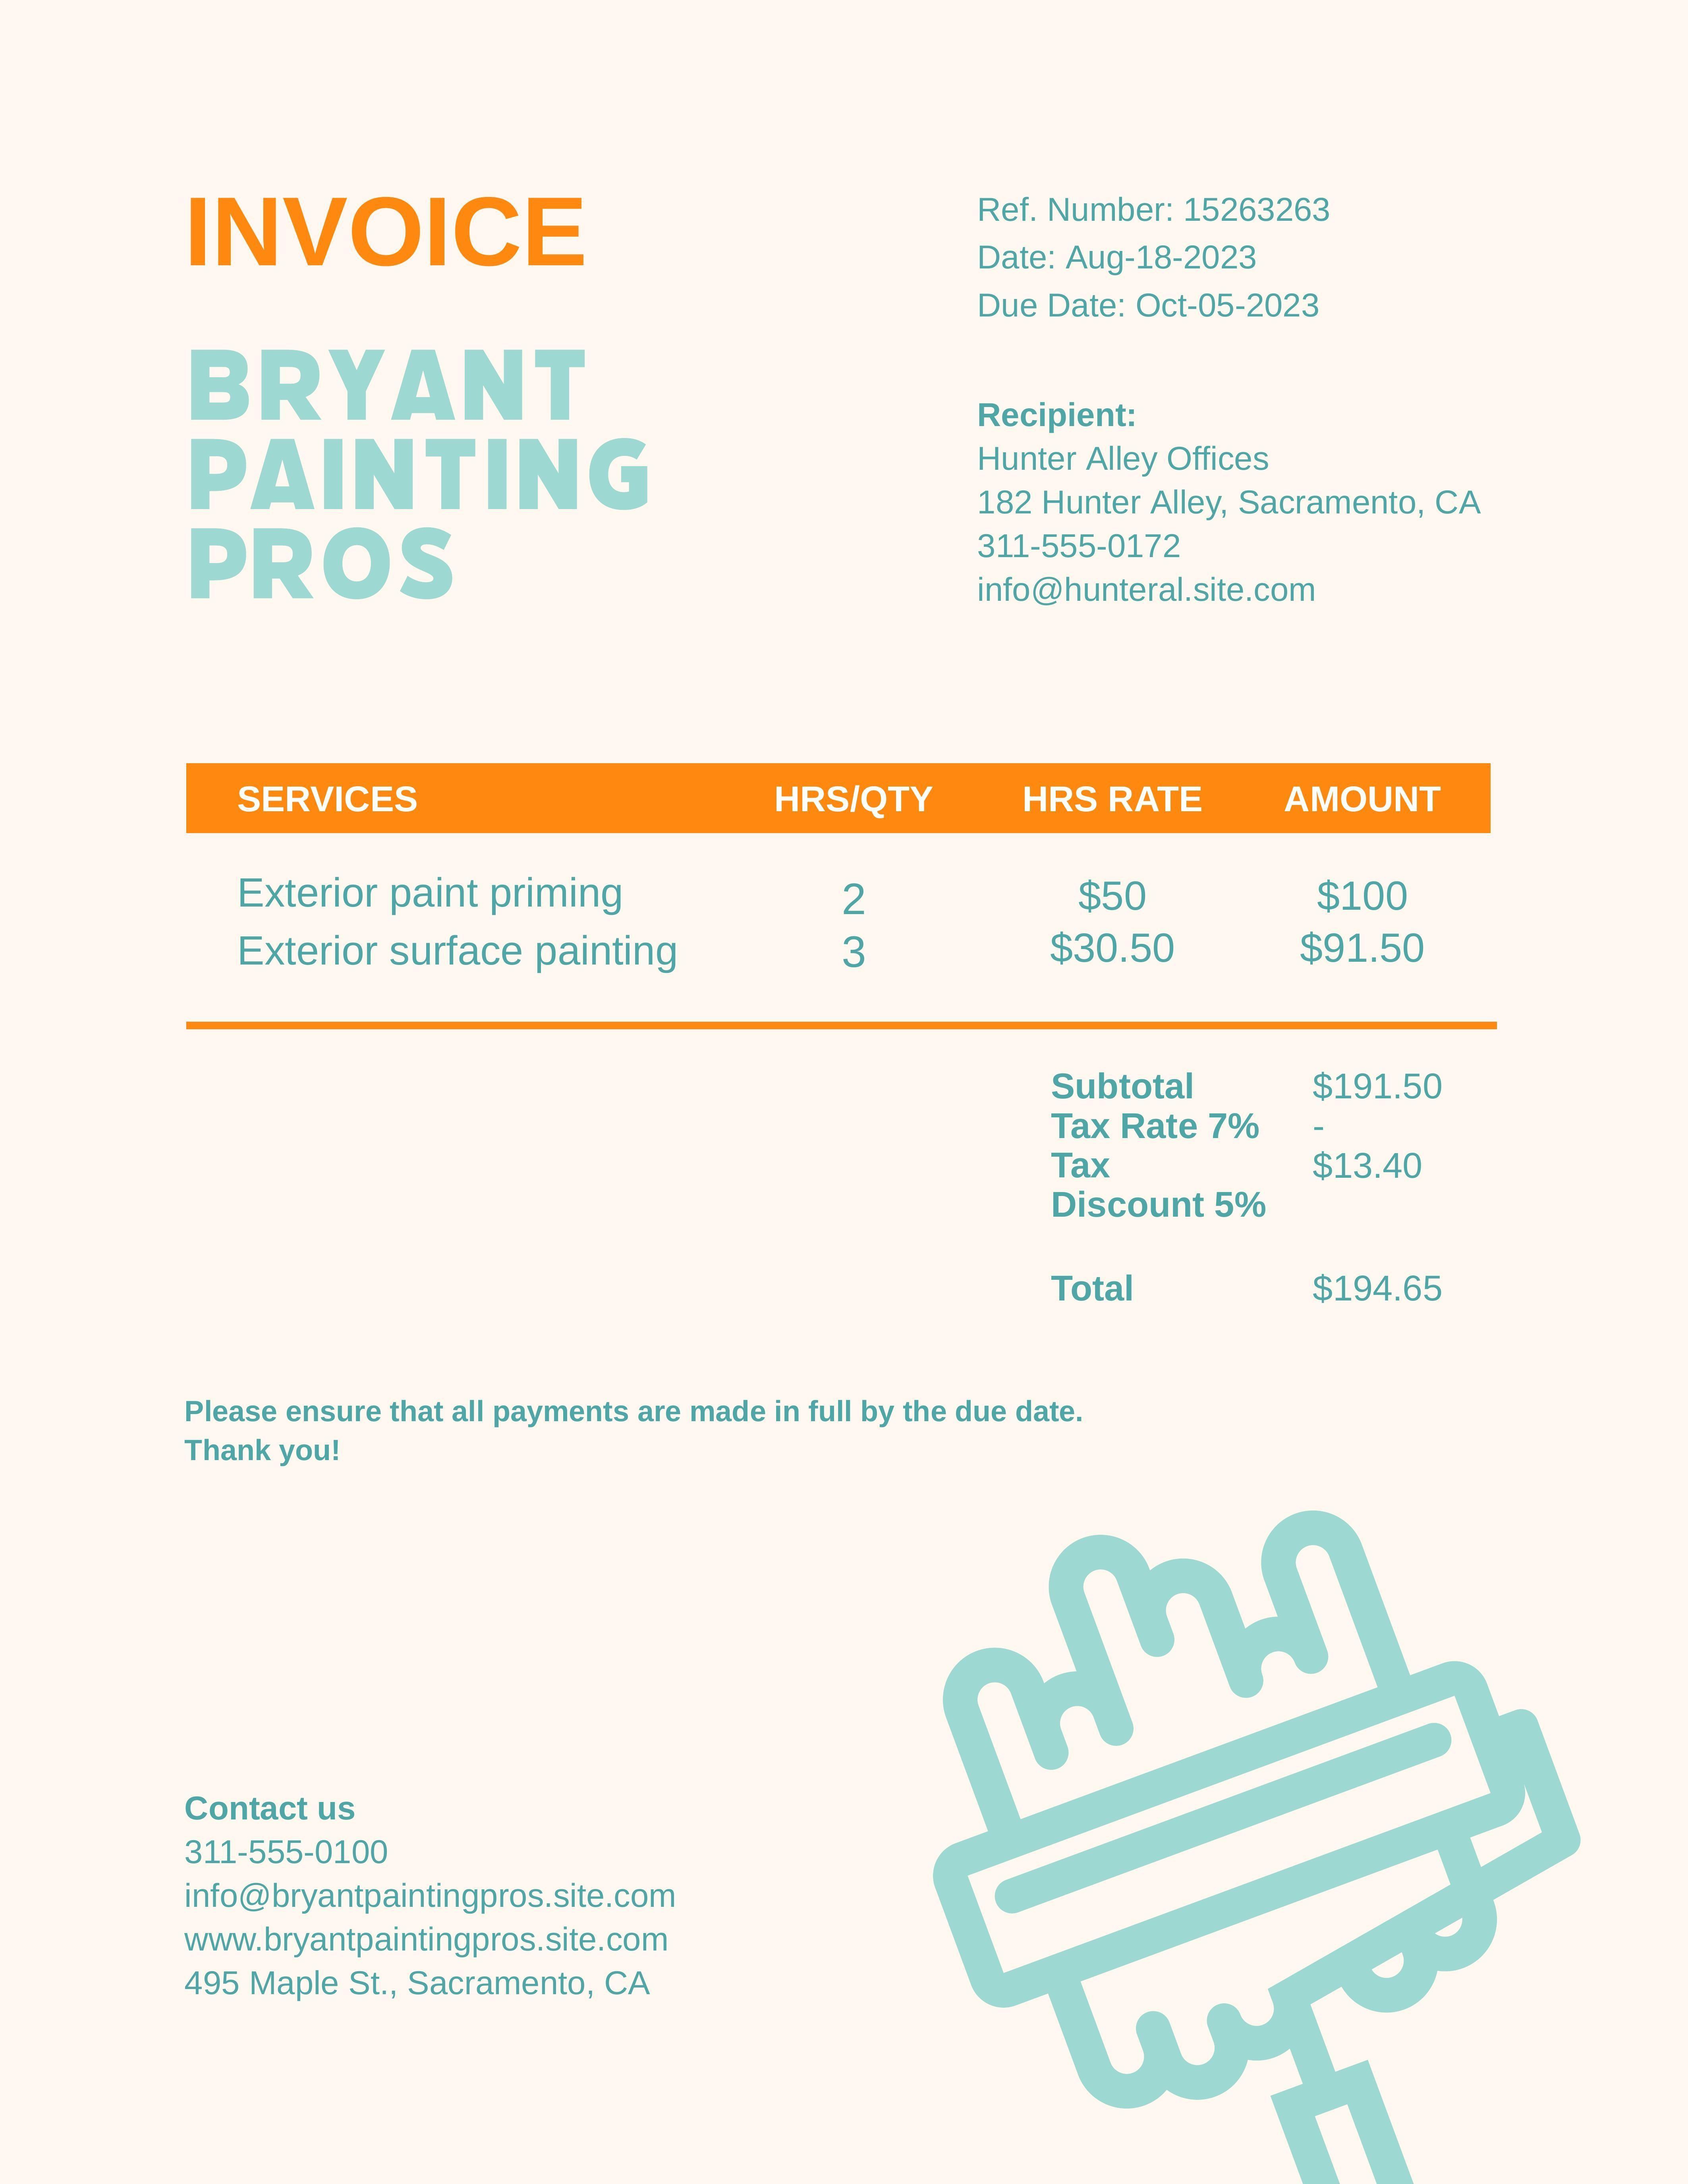ROI: (183, 764, 1493, 1025), (165, 314, 690, 619), (957, 383, 1504, 615), (1034, 1057, 1465, 1312), (172, 1367, 1085, 1482), (965, 181, 1365, 342)
